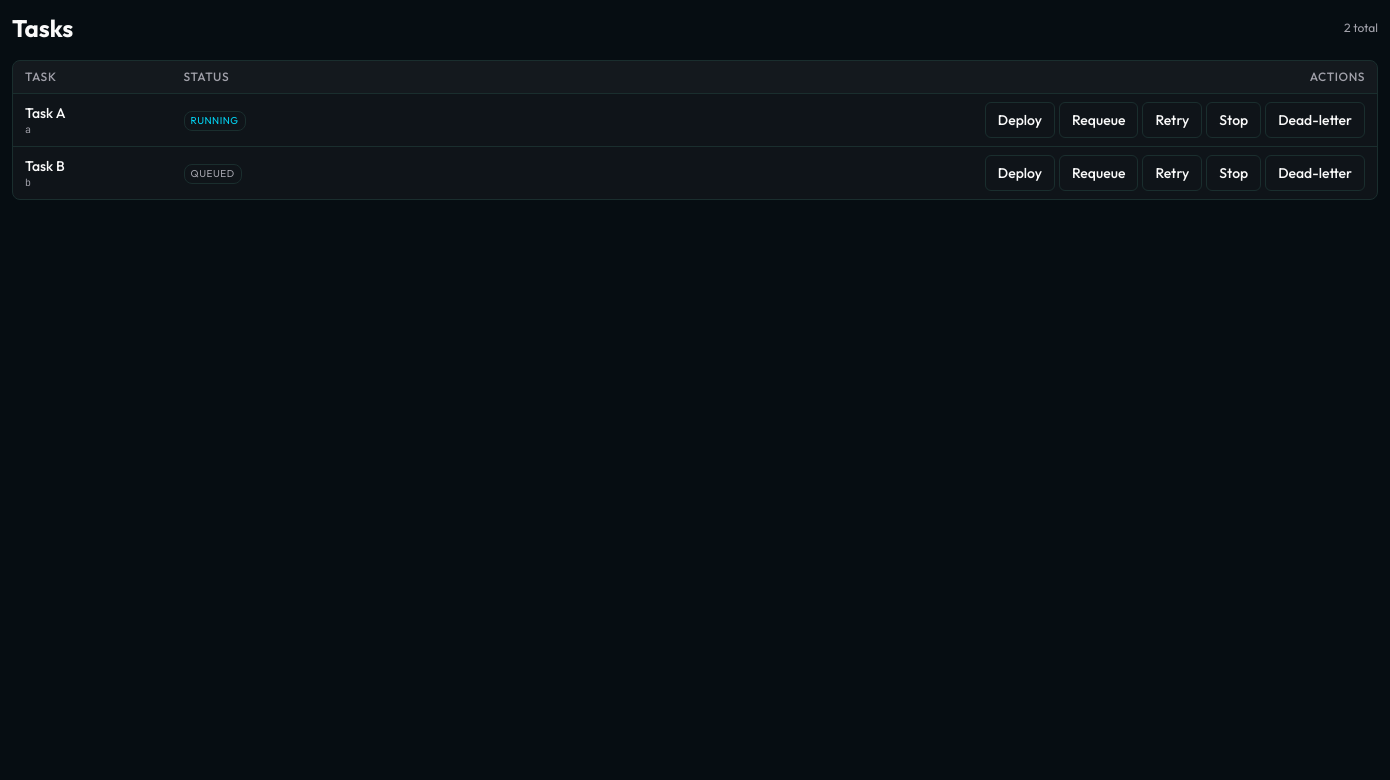
TasksPage — dependency graph › renders the dependency-graph surface for the selected task
The image size is (1390, 780).
Click the row with test id "task-row-a": coordinates (695, 120) x1=13 y1=94 x2=1377 y2=146
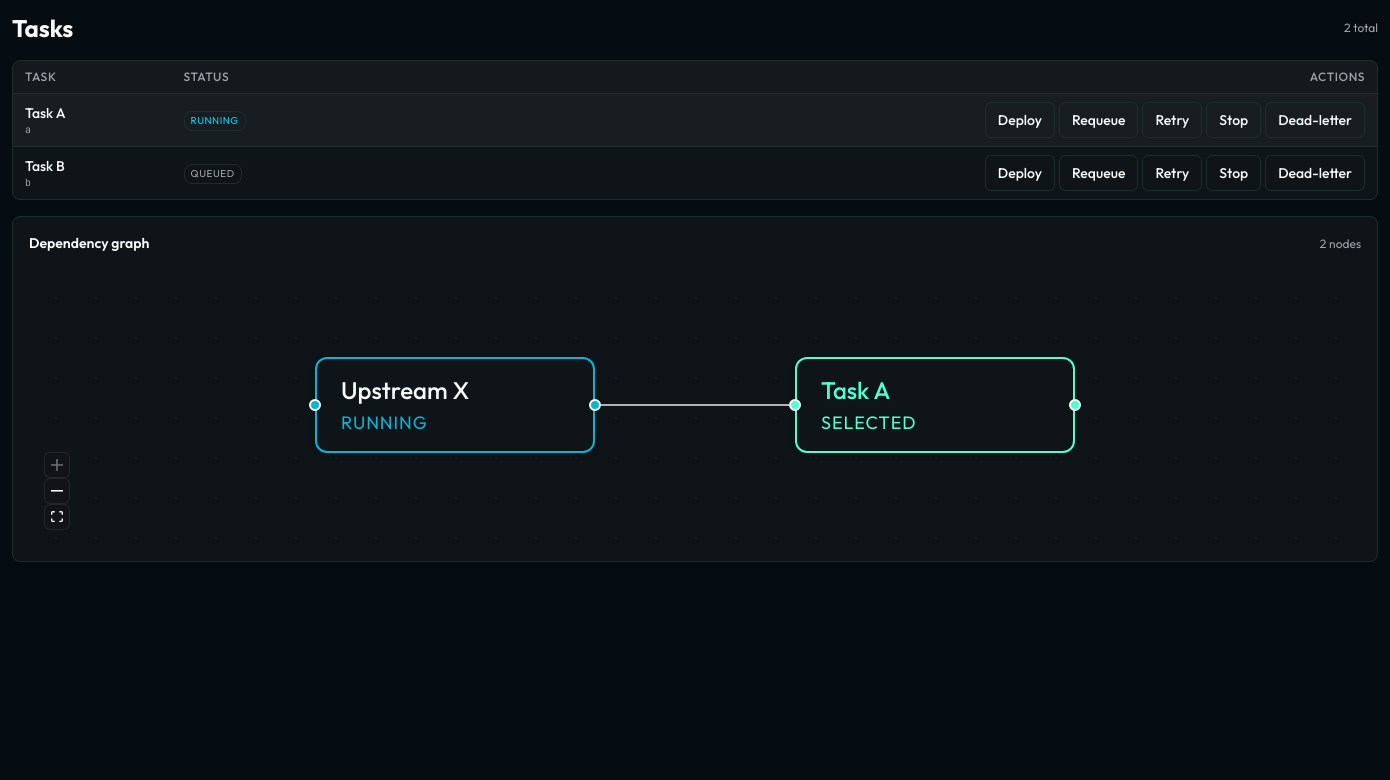
Now the element with test id "blocked-by-graph" is shown, box x1=12 y1=216 x2=1378 y2=562
